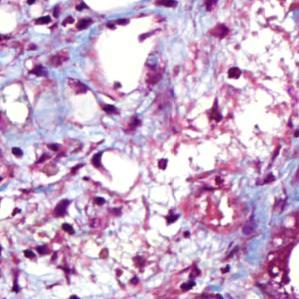steatosis: (66, 91, 101, 128)
